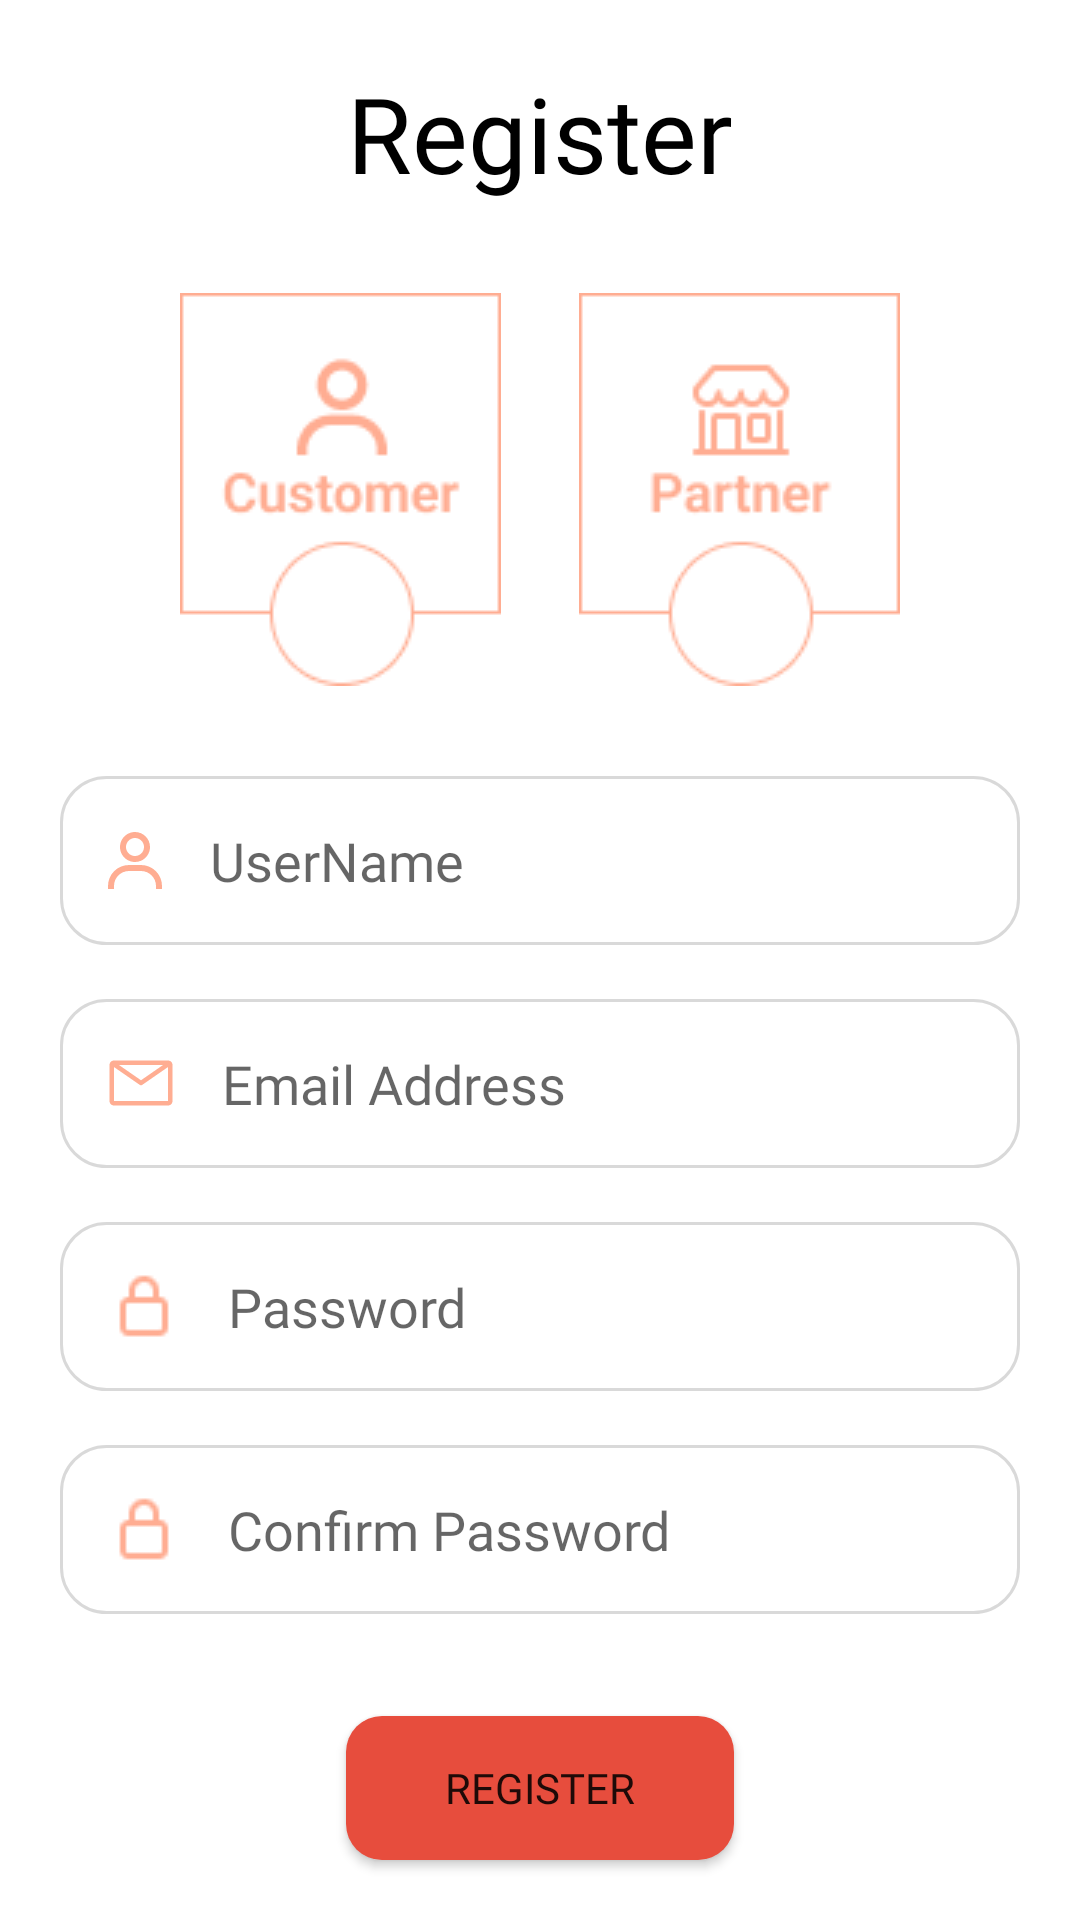

Icons on this 1080×1920 Android screen, each with the point to tap as (x,y):
lock: (144,1306), (144,1529)
person: (135,860)
